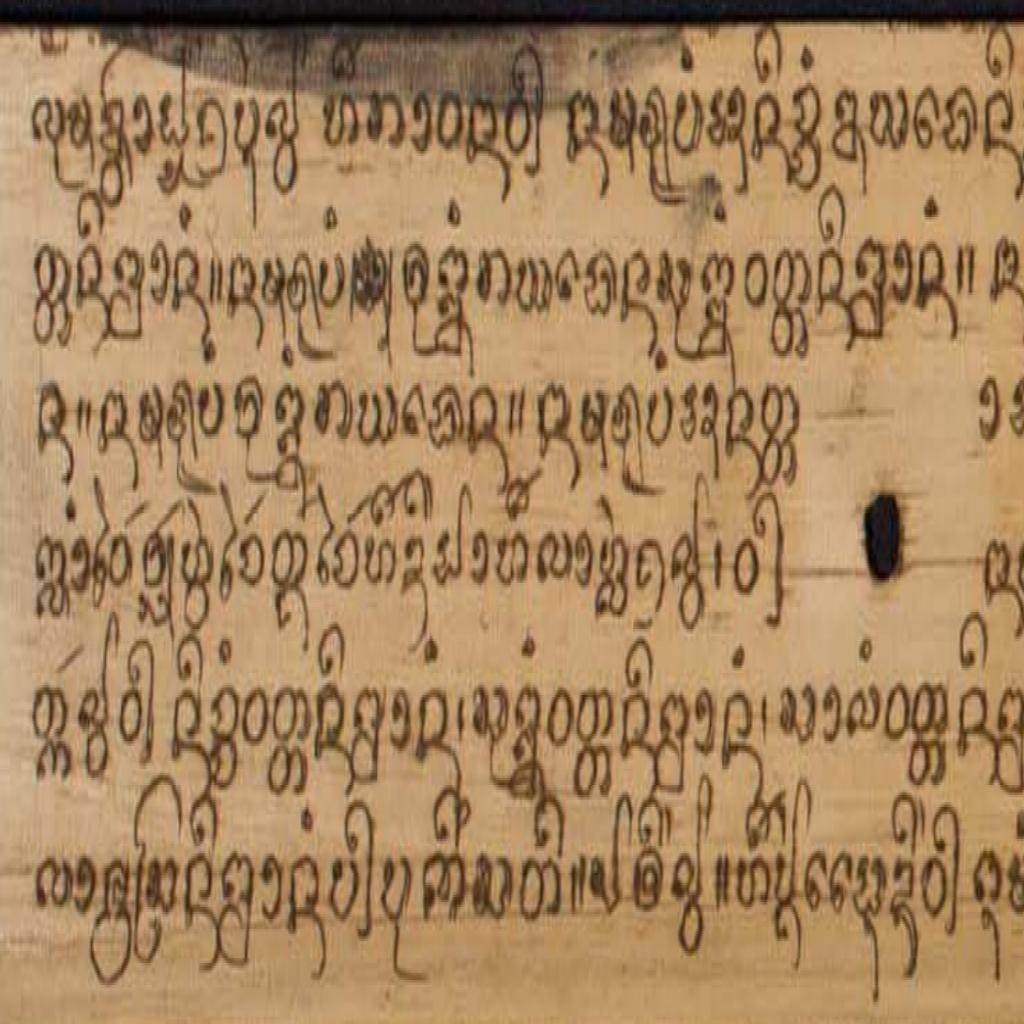LN002: (830, 82, 868, 172)
LN020: (941, 79, 982, 165)
LN035: (743, 246, 772, 316)
LN041: (705, 78, 750, 158)
